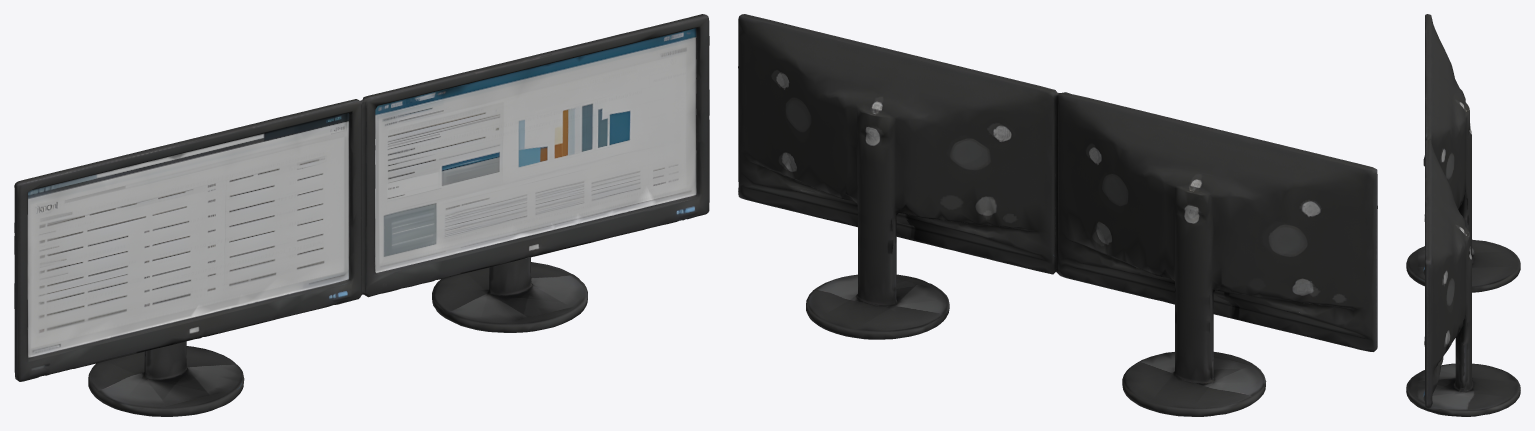
The model's file is Meshy_AI_Dual_Monitors_Display_0119133238_texture.fbx.
3 renders of one model, left to right at view 1: azimuth 30°, elevation 25°; view 2: azimuth 150°, elevation 25°; view 3: azimuth 270°, elevation 25°, orthographic. The views are drawn at different scales.
Parts seen in each view (by area): view 1: Mesh_0; view 2: Mesh_0; view 3: Mesh_0.
Part boxes in pixels (x1,y1,x2,y2): Mesh_0: (14,14,709,416); Mesh_0: (738,14,1377,416); Mesh_0: (1406,14,1520,416).
Bounding box in the file's own units: 191 × 69.21 × 37.14.
Materials: 1 (1 with a texture image).
